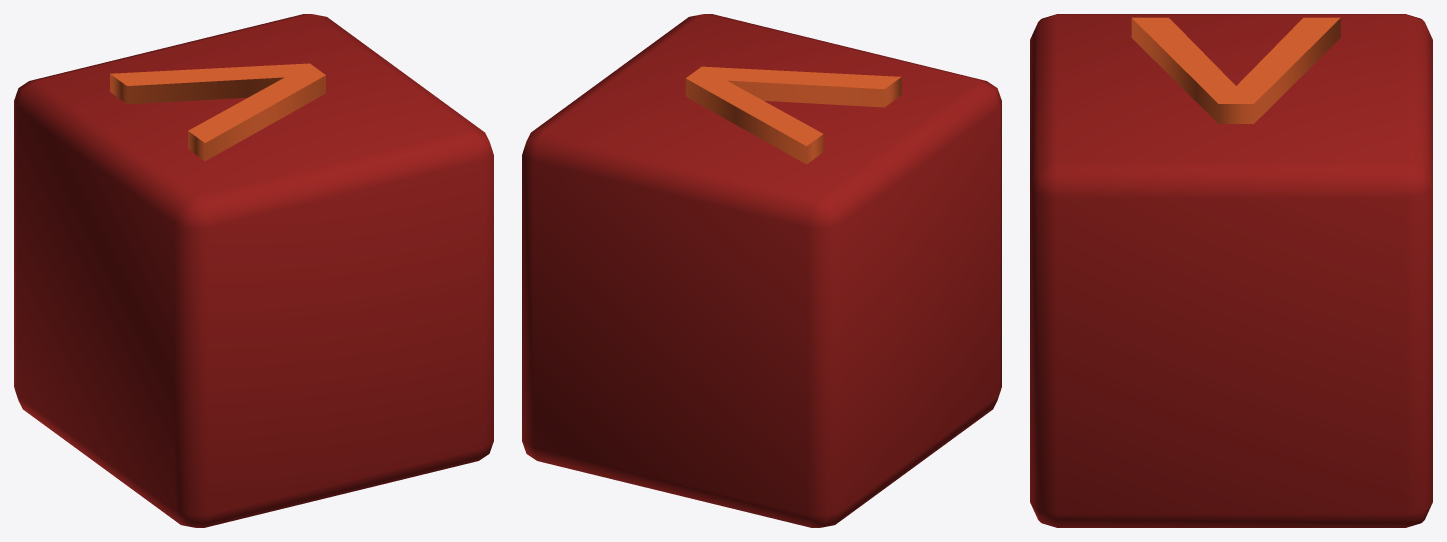
The model's file is Cube Right.fbx.
3 views of the same model, side by side, from view 1: azimuth 30°, elevation 25°; view 2: azimuth 150°, elevation 25°; view 3: azimuth 270°, elevation 25° (orthographic). The views are drawn at different scales.
Parts seen in each view (by area): view 1: Right; view 2: Right; view 3: Right.
Boxes of the visible parts, box(x1,y1,x2,y2) form: Right: box(14, 14, 493, 527); Right: box(522, 14, 1001, 527); Right: box(1030, 14, 1432, 527).
Size of the model in its own units: 200 by 211 by 200.
